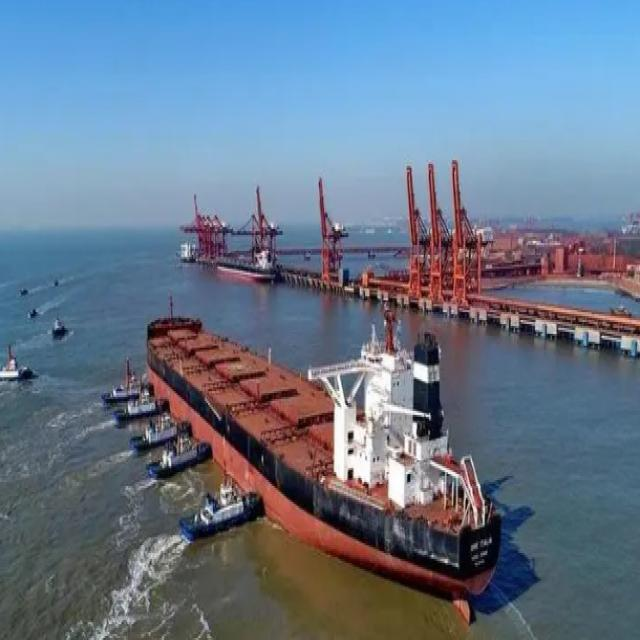cargoship: (141, 268, 515, 590)
fishing boat: (177, 465, 267, 542), (145, 412, 208, 480), (134, 401, 177, 452), (110, 380, 162, 418), (0, 331, 29, 391), (102, 362, 142, 398)
